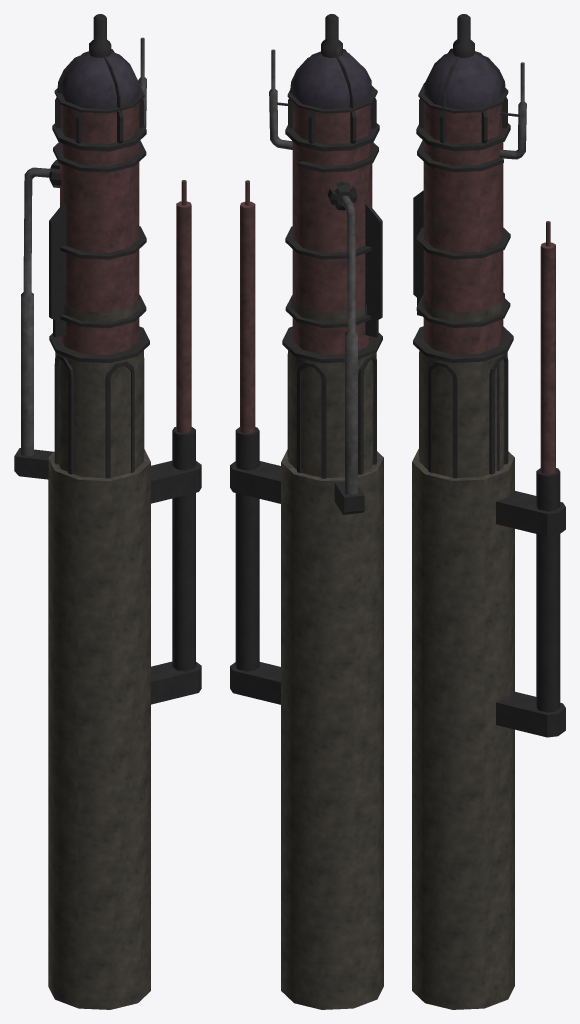
File: CHM0310178.fbx
The picture shows the model from 3 angles, left to right: view 1: azimuth 30°, elevation 25°; view 2: azimuth 150°, elevation 25°; view 3: azimuth 330°, elevation 25°; orthographic projection.
Visible parts, largest first — view 1: smCHM0310178; view 2: smCHM0310178; view 3: smCHM0310178.
Part boxes in pixels (box(x1,y1,x2,y2)): smCHM0310178: box(14, 14, 201, 1009); smCHM0310178: box(230, 14, 383, 1009); smCHM0310178: box(412, 14, 565, 1009).
Bounding box in the file's own units: 451 × 2667 × 292.
